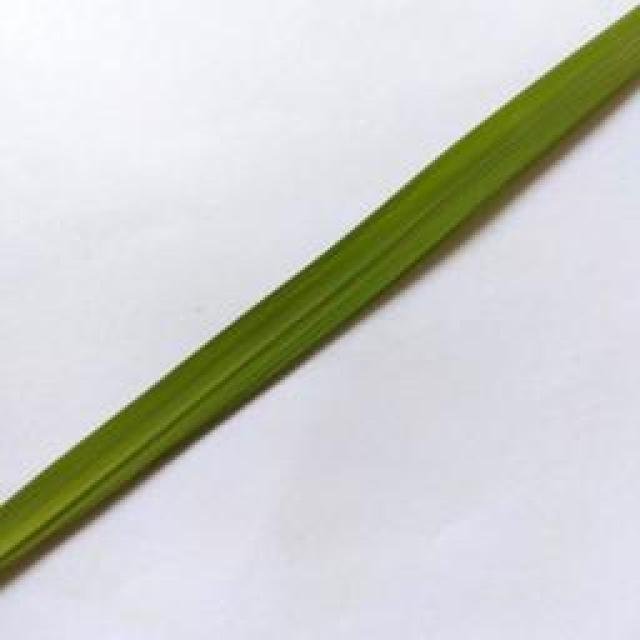Healthy-Plant: (0, 5, 640, 572)
